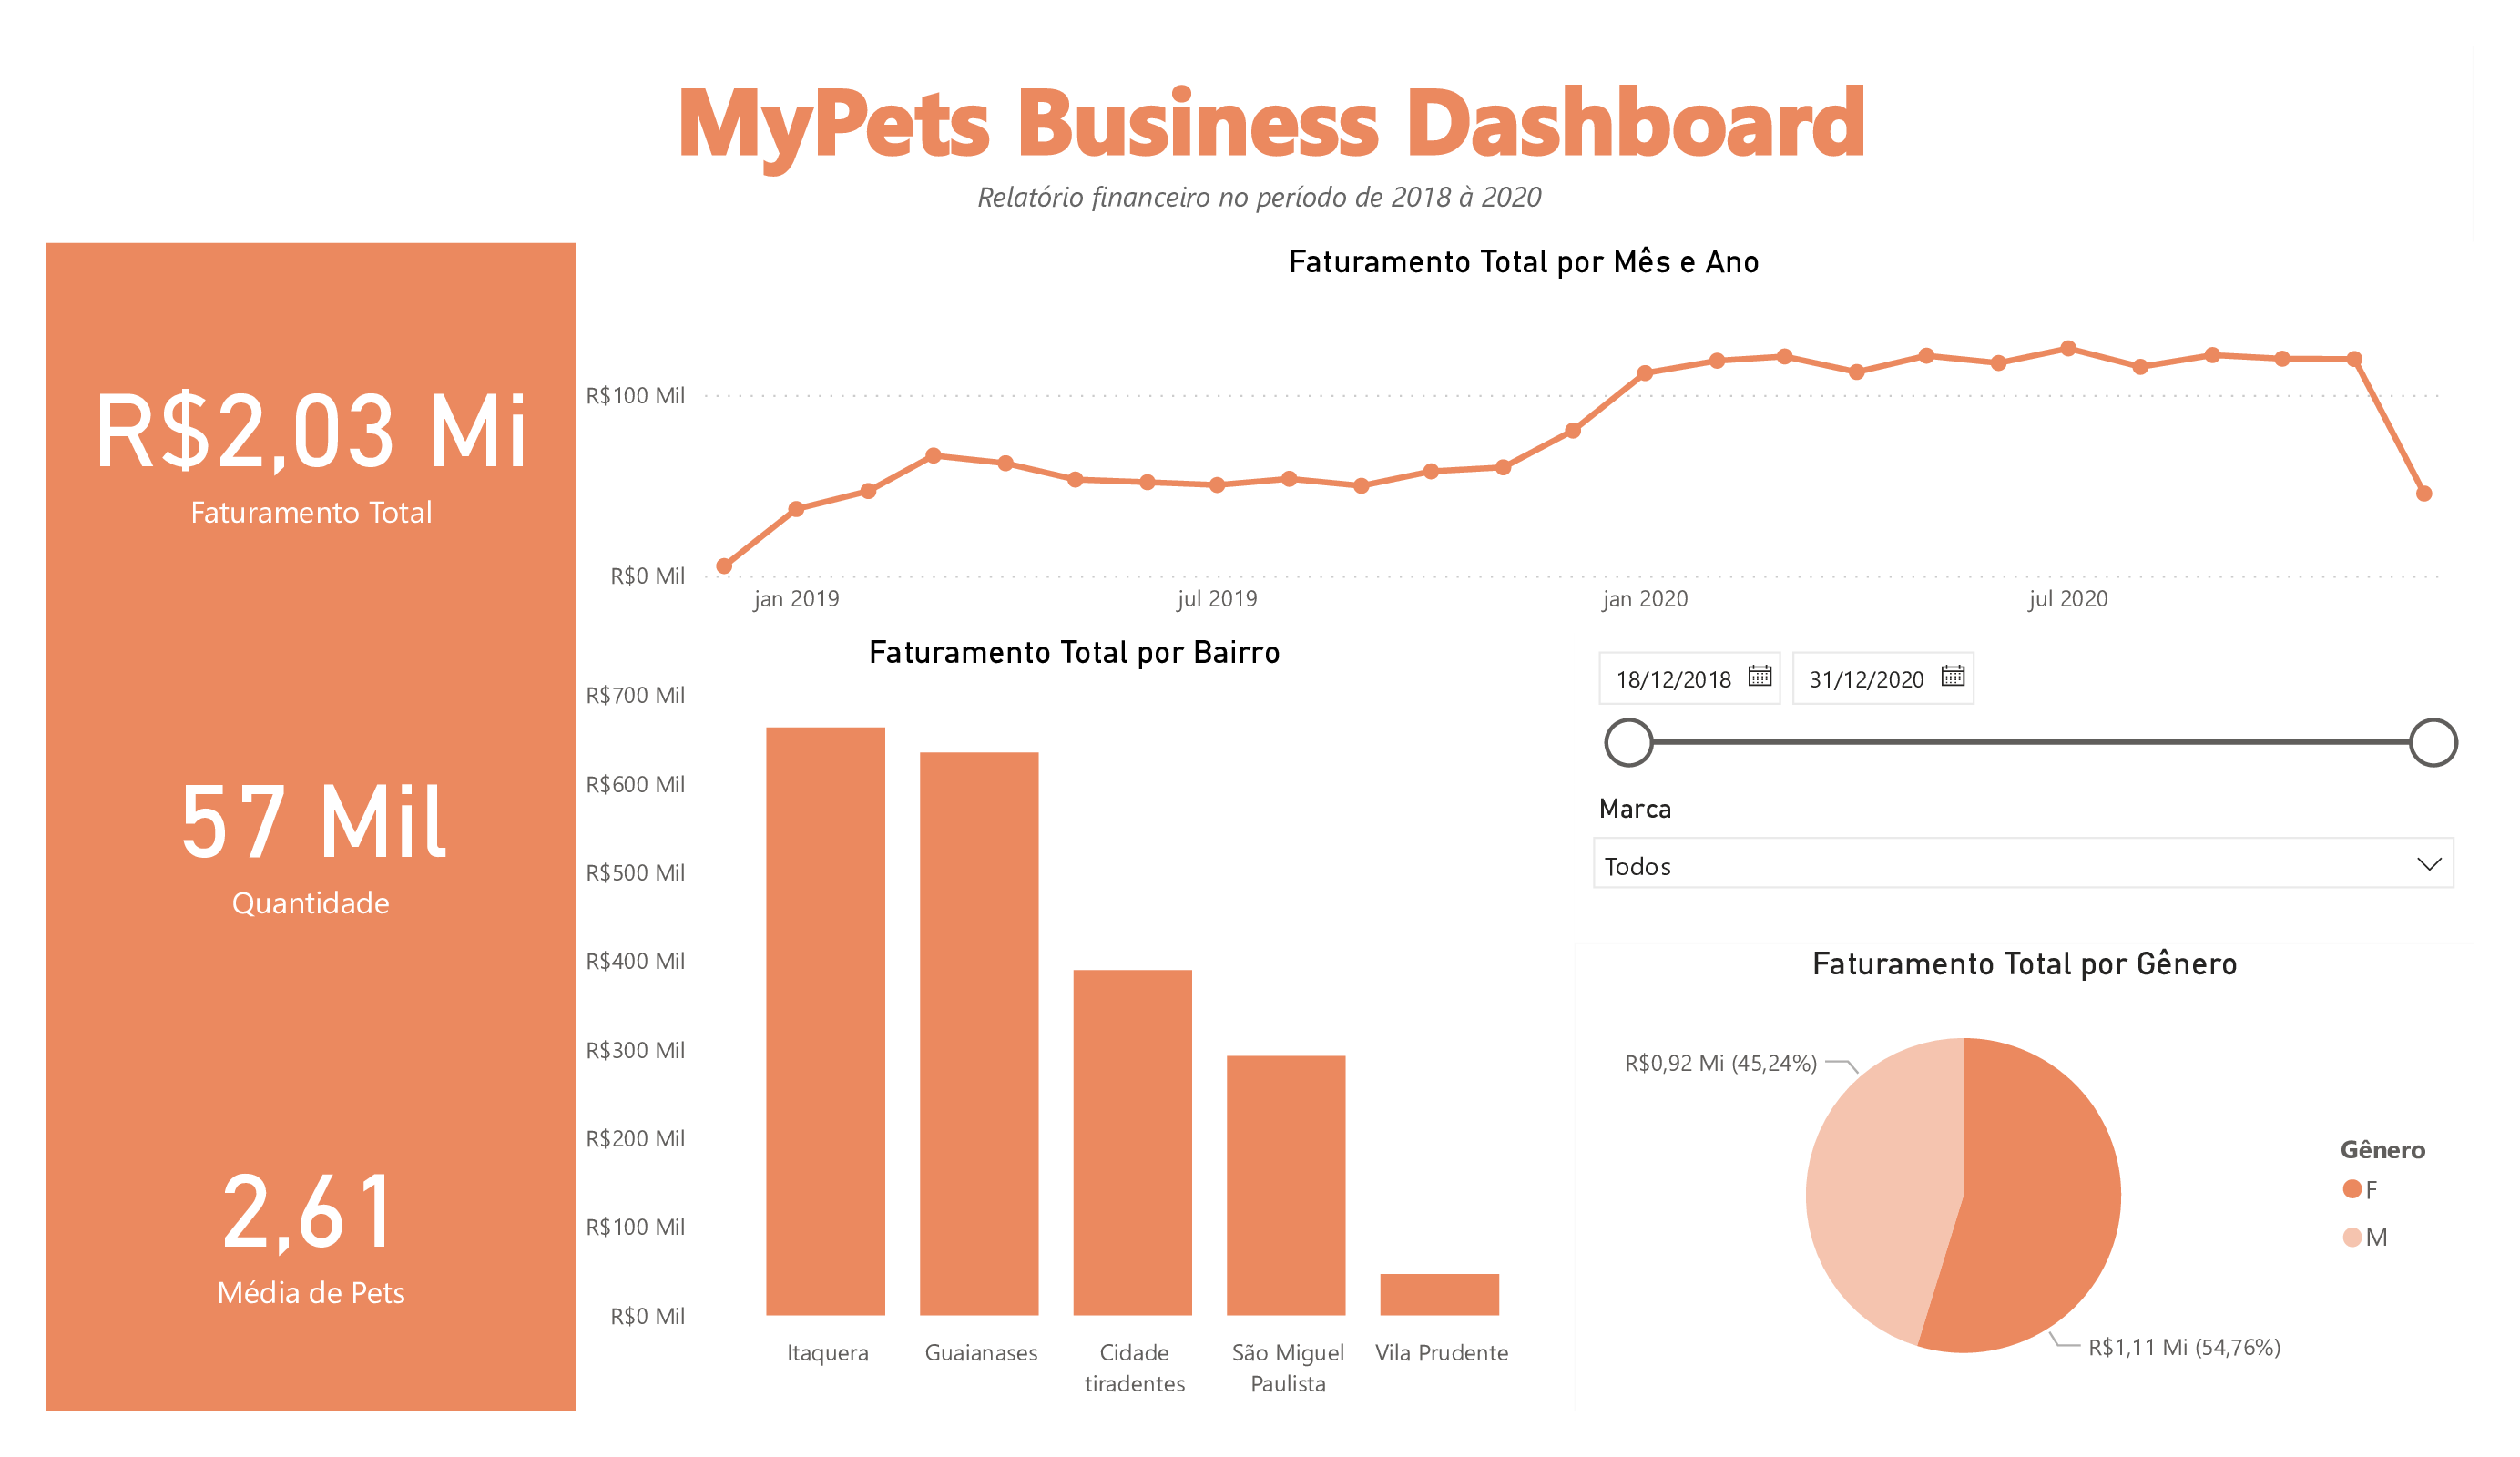

The page's visual inventory and layout, read from the dashboard file:
{"tool":"powerbi","page":{"name":"Página 1","canvas":[1280,720],"ordinal":0},"visuals":[{"type":"card","fields":{"Values":["Vendas.Faturamento Total"]},"box":[0,103.5,279.7,205.9],"z":0},{"type":"card","fields":{"Values":["Avg(Clientes.Pets)"]},"box":[0,515.3,279.7,204.7],"z":1000},{"type":"card","title":"Produtos Vendidos","fields":{"Values":["Sum(Vendas.Quantidade)"]},"box":[0,309.4,279.7,205.9],"z":2000},{"type":"pieChart","fields":{"Category":["Clientes.Gênero"],"Y":["Vendas.Faturamento Total"]},"box":[806.9,473.7,473.7,246.3],"z":3000},{"type":"lineChart","title":"Faturamento Total por Mês e Ano","fields":{"Category":["Vendas.Data de compra.Variation.Hierarquia de datas.Ano","Vendas.Data de compra.Variation.Hierarquia de datas.Trimestre","Vendas.Data de compra.Variation.Hierarquia de datas.Mês","Vendas.Data de compra.Variation.Hierarquia de datas.Dia"],"Y":["Vendas.Faturamento Total"]},"box":[279.7,103.5,999.7,205.9],"z":4000},{"type":"slicer","fields":{"Values":["Produtos.Marca"]},"box":[805.7,389.2,473.7,84.5],"z":5000},{"type":"slicer","fields":{"Values":["Vendas.Data de compra"]},"box":[805.7,309.4,473.7,79.7],"z":6000},{"type":"clusteredColumnChart","fields":{"Y":["Vendas.Faturamento Total"],"Category":["Clientes.Bairro"]},"box":[279.7,309.4,526,410.6],"z":7000},{"type":"textbox","box":[0,0,1279.3,103.5],"z":7001}]}

Visuals, with their boxes in screenshot pixels (x1, y1, x2, y2):
card - Vendas.Faturamento Total: box(46, 242, 576, 633)
card - Avg(Clientes.Pets): box(46, 1024, 576, 1411)
"Produtos Vendidos" card: box(46, 633, 576, 1024)
pieChart - Clientes.Gênero x Vendas.Faturamento Total: box(1576, 944, 2474, 1411)
"Faturamento Total por Mês e Ano" lineChart: box(576, 242, 2474, 633)
slicer - Produtos.Marca: box(1575, 784, 2474, 944)
slicer - Vendas.Data de compra: box(1575, 633, 2474, 784)
clusteredColumnChart - Vendas.Faturamento Total x Clientes.Bairro: box(576, 633, 1575, 1411)
textbox: box(46, 46, 2474, 242)
